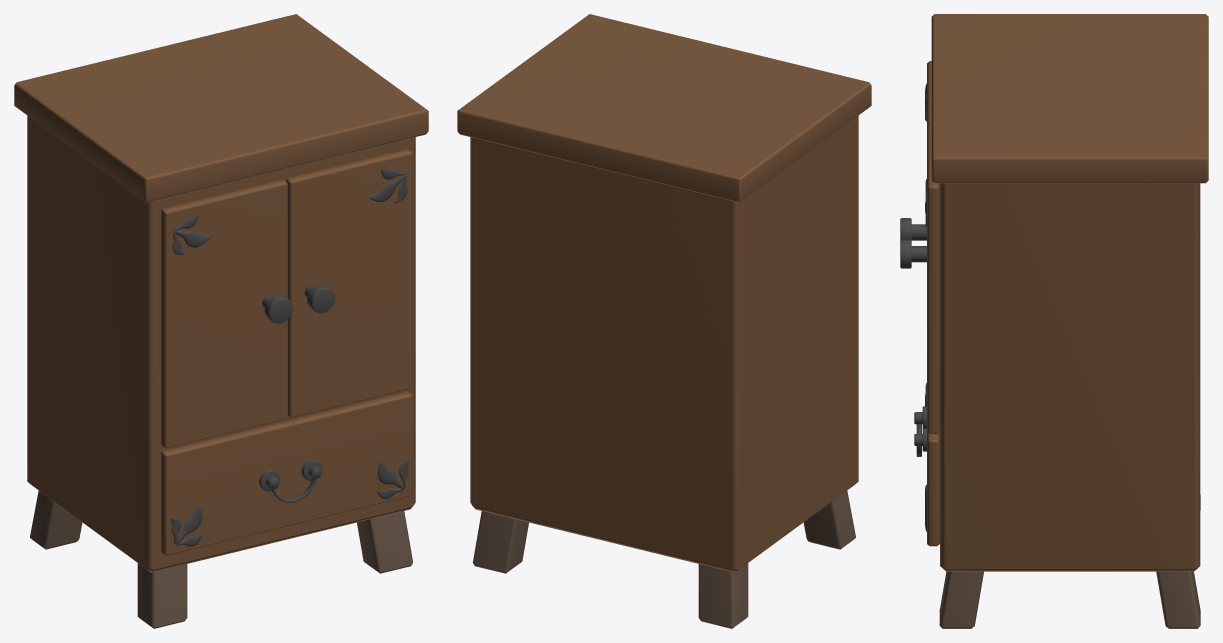
The model's file is Cabinet_15.glb.
3 renders of one model, left to right at view 1: azimuth 30°, elevation 25°; view 2: azimuth 150°, elevation 25°; view 3: azimuth 270°, elevation 25°, orthographic. The views are drawn at different scales.
Parts seen in each view (by area): view 1: Cabinet_15; view 2: Cabinet_15; view 3: Cabinet_15.
Part boxes in pixels (box(x1,y1,x2,y2)): Cabinet_15: box(14, 14, 428, 628); Cabinet_15: box(457, 14, 871, 628); Cabinet_15: box(900, 14, 1208, 628).
Bounding box in the file's own units: 1.1 × 1.69 × 0.9888.
Materials: 1 (1 with a texture image).
